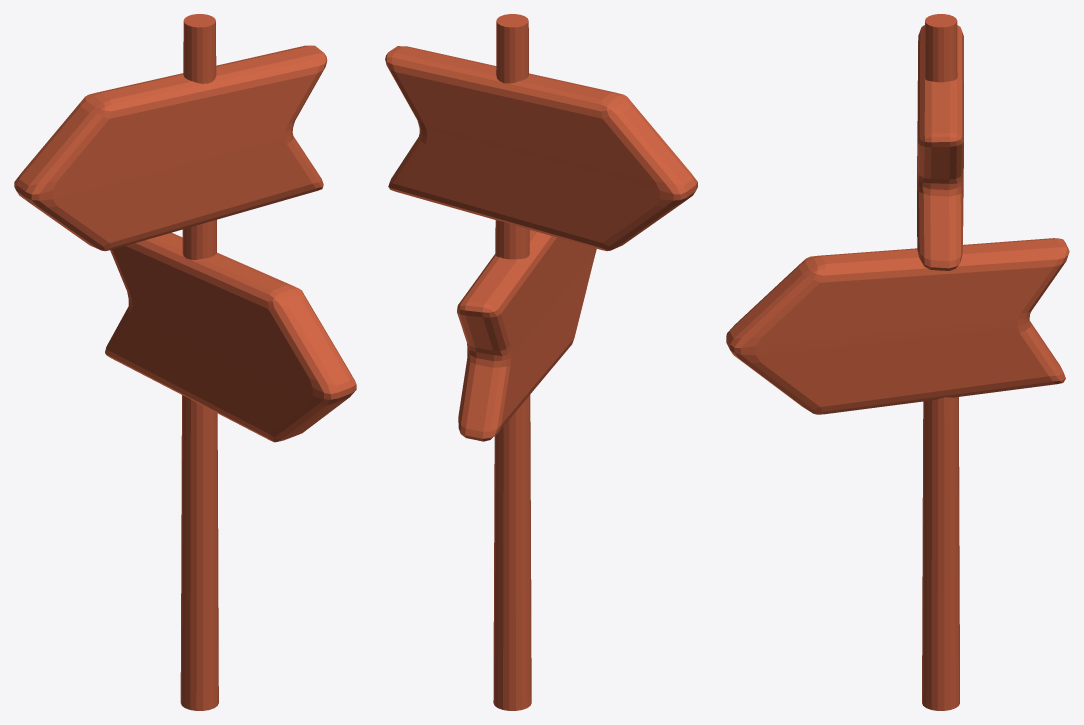
File: sign.fbx
The picture shows the model from 3 angles, left to right: view 1: azimuth 30°, elevation 25°; view 2: azimuth 150°, elevation 25°; view 3: azimuth 270°, elevation 25°; orthographic projection.
Visible parts, largest first — view 1: Cube, Cube.001, Cylinder; view 2: Cube, Cube.001, Cylinder; view 3: Cube.001, Cylinder, Cube.
Part boxes in pixels (x1,y1,x2,y2): Cube: (14,45,327,251); Cube.001: (105,232,356,442); Cylinder: (180,14,218,710); Cube: (385,46,697,251); Cube.001: (457,230,596,441); Cylinder: (493,14,531,710); Cube.001: (726,238,1069,414); Cylinder: (922,14,959,710); Cube: (917,25,963,270).
Size of the model in its own units: 1519 by 3293 by 1502.
